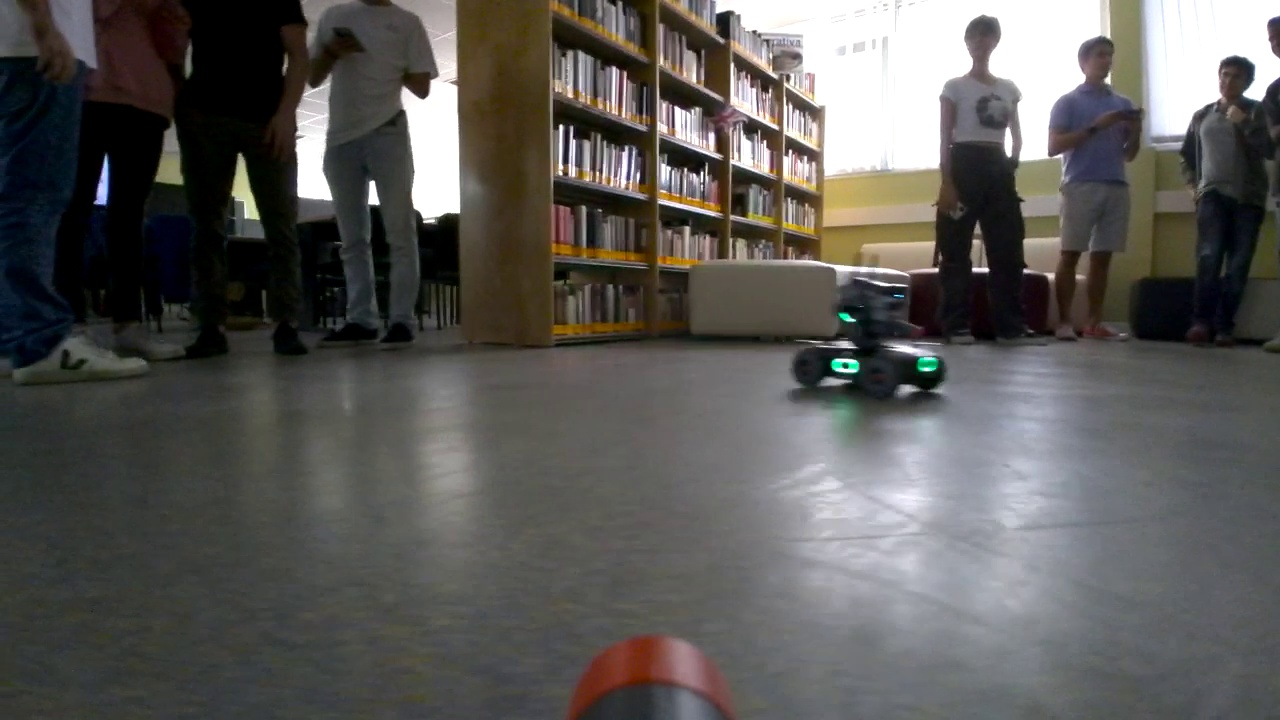robot: (789, 277, 948, 398)
